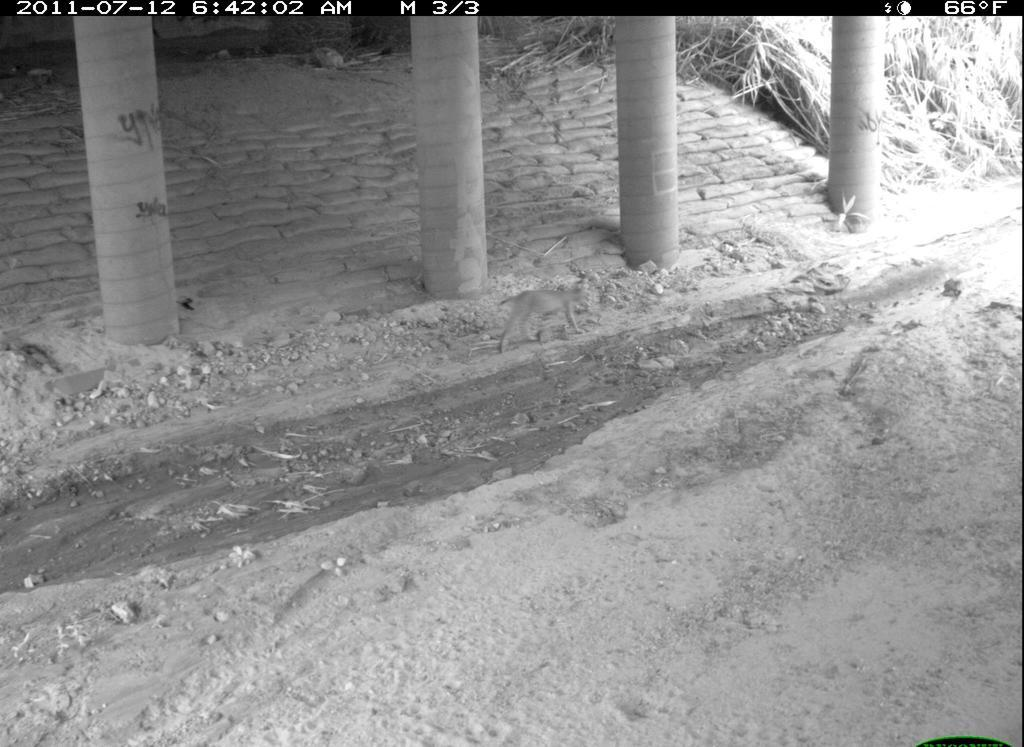bobcat: (985, 556, 1024, 720)
